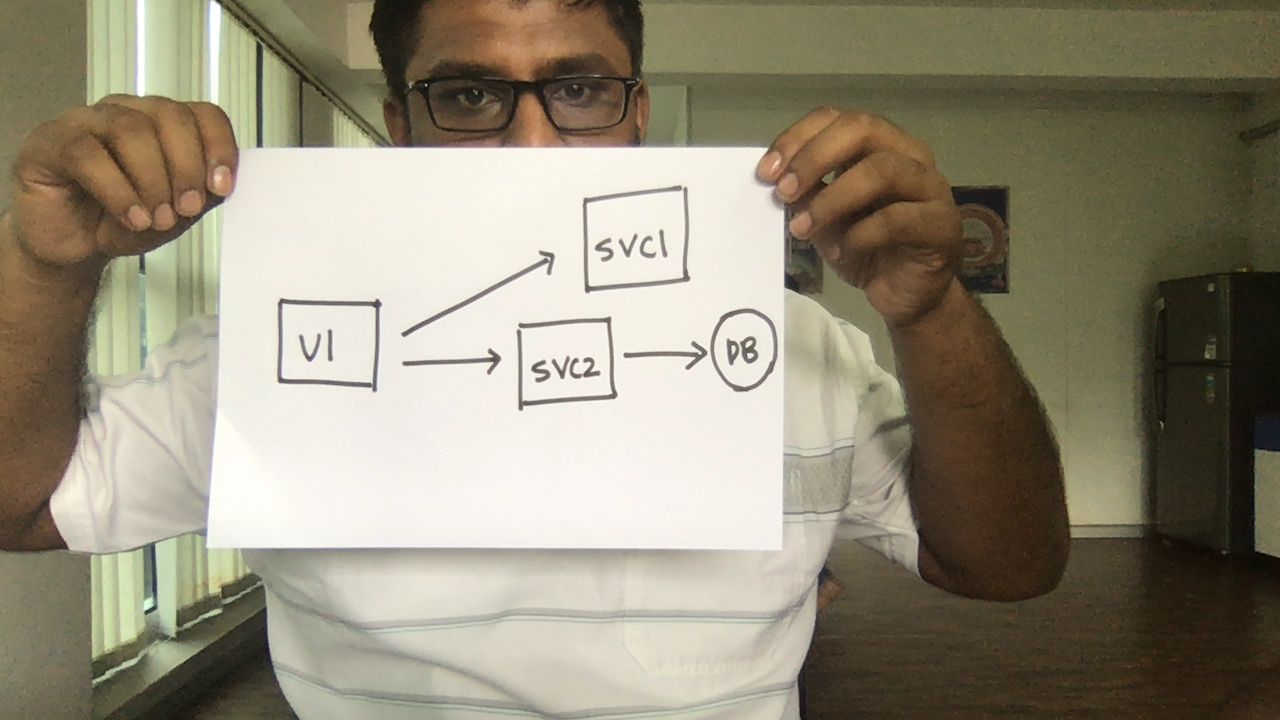arrow: (396, 241, 566, 351), (621, 329, 709, 382), (400, 345, 508, 388)
db: (708, 305, 781, 396)
ec2: (577, 184, 700, 294), (513, 315, 621, 410)
ui: (270, 293, 389, 396)
